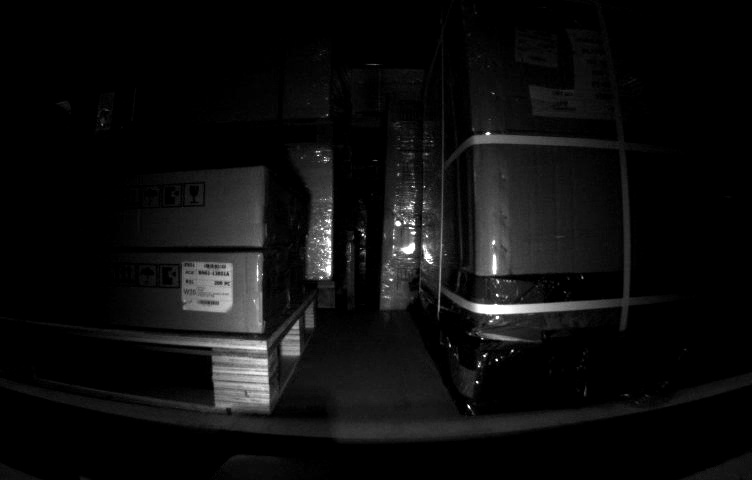True Barcode: (178, 260, 231, 311), (515, 22, 557, 65)
